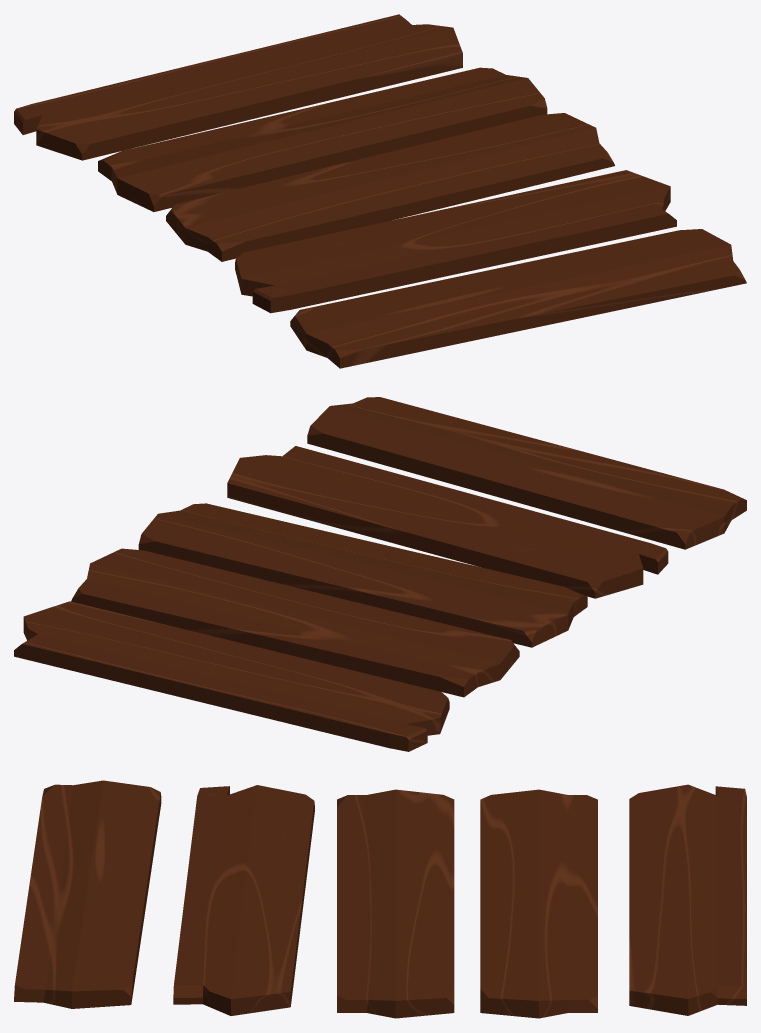
File: WoodenPath.fbx
3 renders of one model, top to bottom at view 1: azimuth 30°, elevation 25°; view 2: azimuth 150°, elevation 25°; view 3: azimuth 270°, elevation 25°, orthographic. The views are drawn at different scales.
Parts seen in each view (by area): view 1: WoodenPath; view 2: WoodenPath; view 3: WoodenPath.
Part boxes in pixels (box(x1,y1,x2,y2)): WoodenPath: box(14, 14, 746, 368); WoodenPath: box(14, 397, 746, 751); WoodenPath: box(14, 780, 746, 1018).
Bounding box in the file's own units: 147 × 5.47 × 206.
